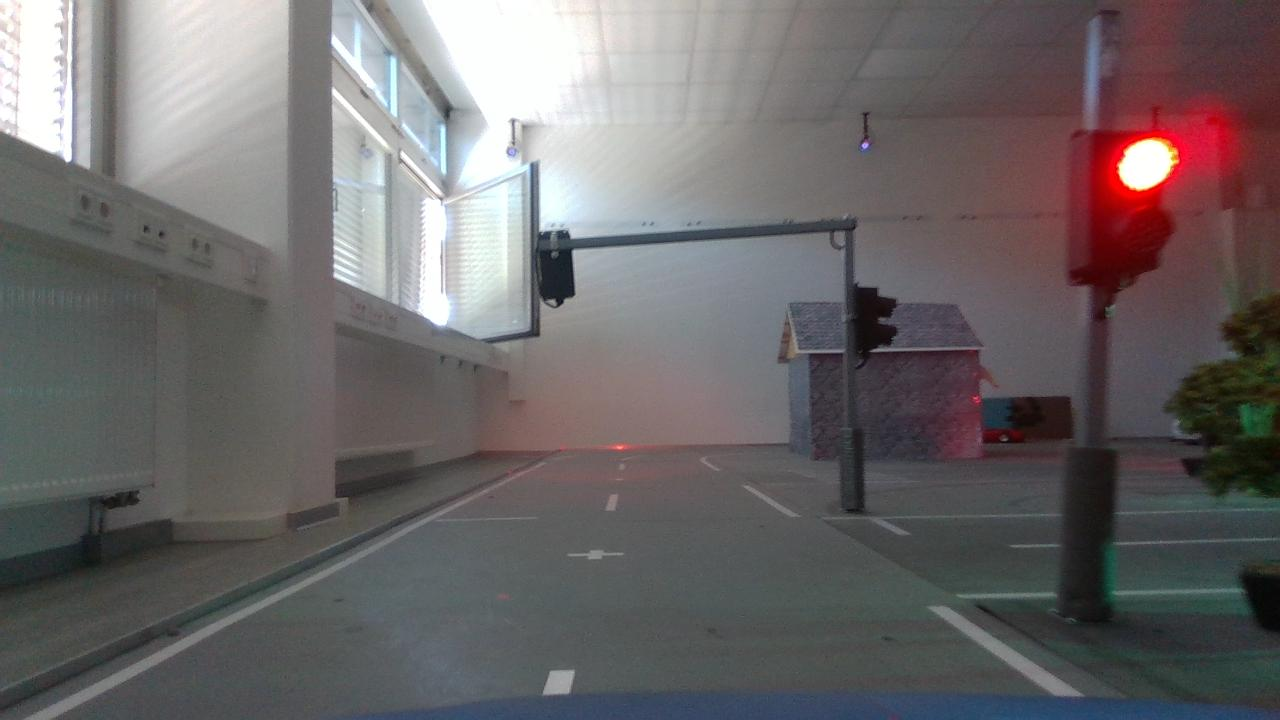traffic_light_red: (1036, 109, 1190, 308)
